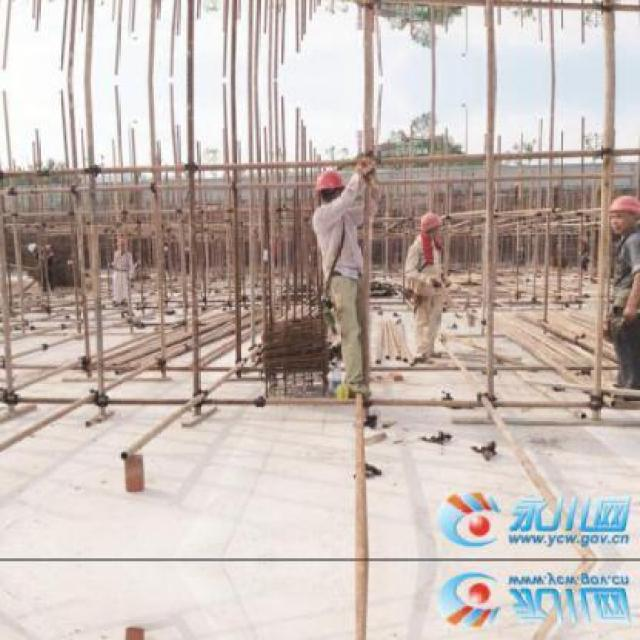helmet: (604, 193, 640, 219), (314, 167, 346, 194), (415, 210, 443, 233)
